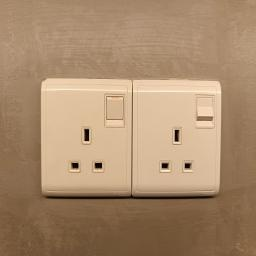outlet: (39, 75, 132, 204), (132, 74, 223, 204)
